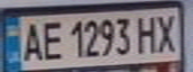1: (63, 16, 84, 58)
2: (81, 16, 100, 58)
3: (112, 15, 136, 56)
9: (97, 16, 118, 57)
A: (18, 18, 45, 63)
E: (36, 17, 66, 62)
H: (133, 12, 160, 54)
X: (151, 11, 181, 53)
